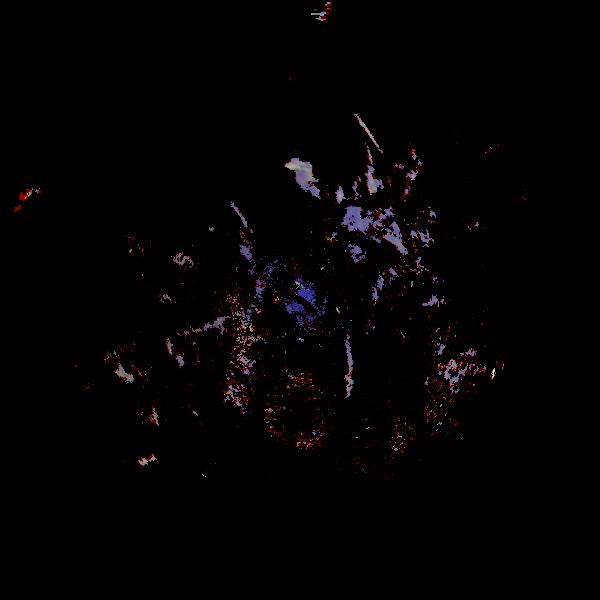roost: (256, 370, 346, 460)
